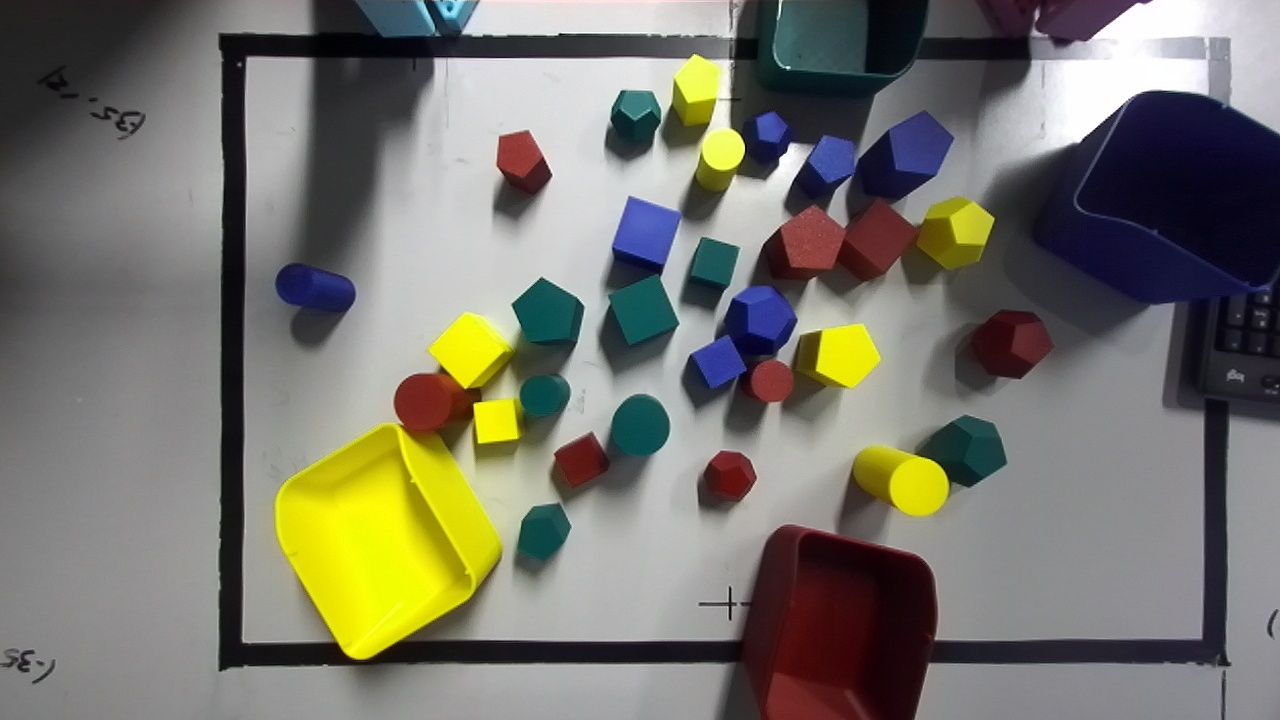bin: (274, 423, 500, 659), (1033, 91, 1279, 303), (742, 525, 937, 719), (757, 0, 927, 92)
cube: (428, 312, 513, 388), (838, 200, 918, 279), (612, 196, 680, 272), (608, 275, 678, 345), (554, 432, 609, 487), (689, 336, 746, 388), (689, 237, 739, 289), (473, 397, 521, 444)
cylinder: (852, 446, 948, 515), (393, 372, 480, 432), (275, 262, 355, 312), (610, 394, 669, 455), (695, 128, 744, 191), (742, 359, 793, 402), (519, 375, 570, 416)
dodecahedron: (917, 415, 1006, 487), (971, 310, 1052, 378), (724, 285, 796, 354), (740, 111, 792, 163), (704, 450, 756, 501), (610, 90, 660, 141)
hexagonal: (763, 202, 877, 278), (856, 111, 953, 199), (916, 197, 993, 268), (793, 324, 879, 387), (512, 277, 583, 344), (795, 135, 854, 197), (496, 130, 551, 193), (672, 55, 719, 125), (517, 503, 570, 561)
